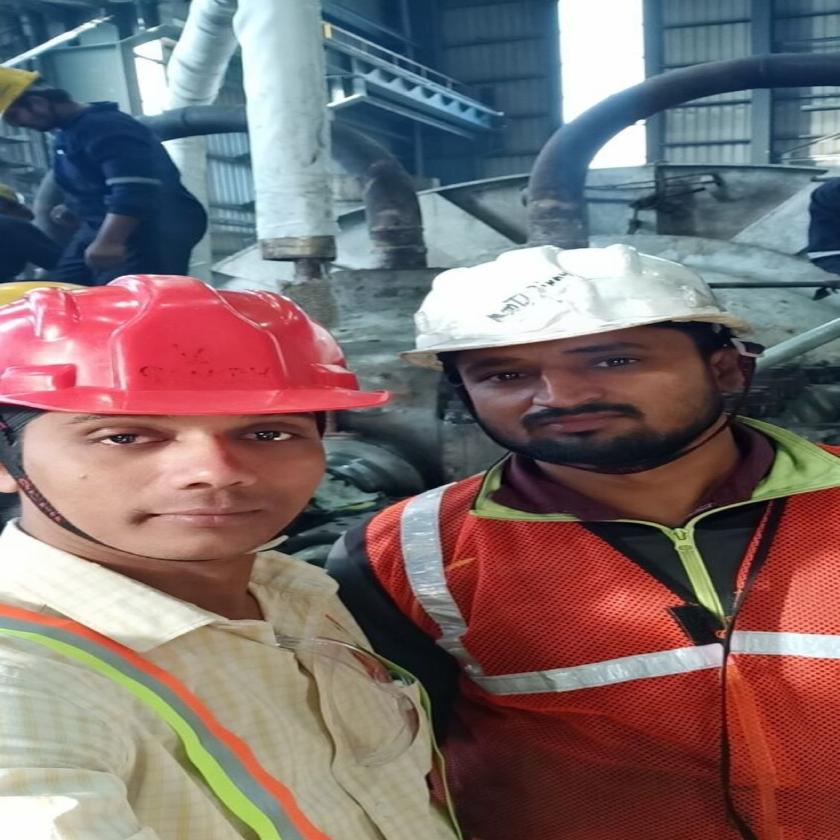Con_casco: (0, 270, 388, 611), (404, 242, 778, 496)
